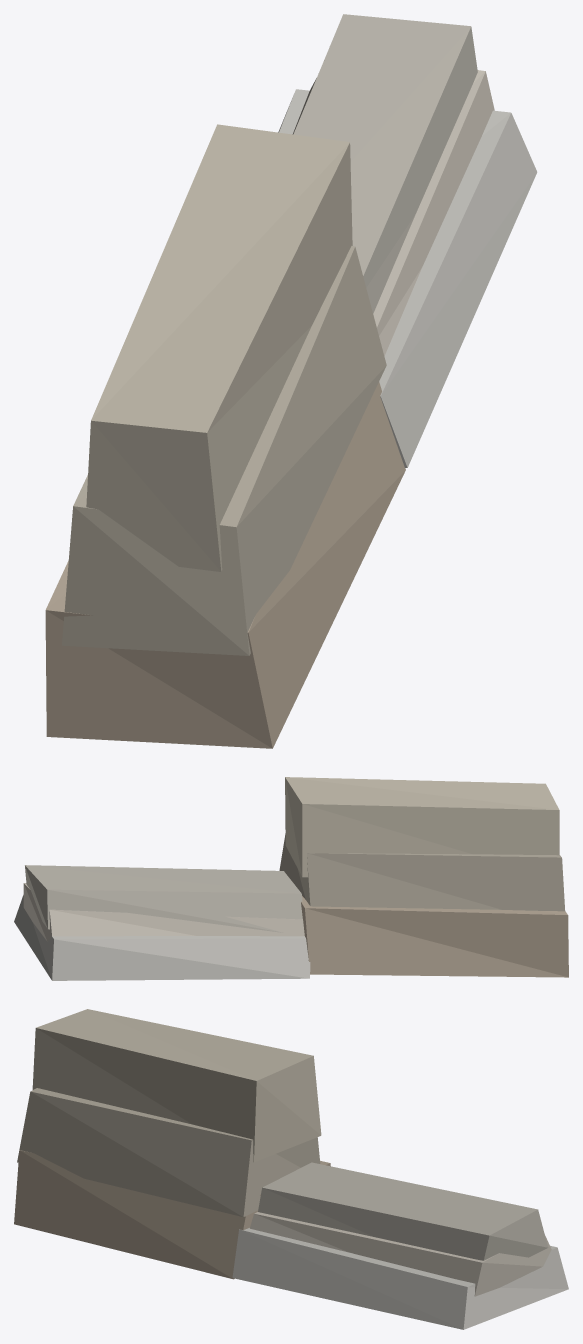
File: farm_-33_-21_mid.glb
The picture shows the model from 3 angles, top to bottom: view 1: azimuth 30°, elevation 25°; view 2: azimuth 150°, elevation 25°; view 3: azimuth 270°, elevation 25°; orthographic projection. The views are drawn at different scales.
Visible parts, largest first — view 1: geometry_0; view 2: geometry_0; view 3: geometry_0.
Part boxes in pixels (bbox=[...]): geometry_0: bbox=[45, 14, 537, 748]; geometry_0: bbox=[14, 777, 568, 980]; geometry_0: bbox=[14, 1009, 568, 1329].
Bounding box in the file's own units: 2.51 × 1.18 × 2.58.
